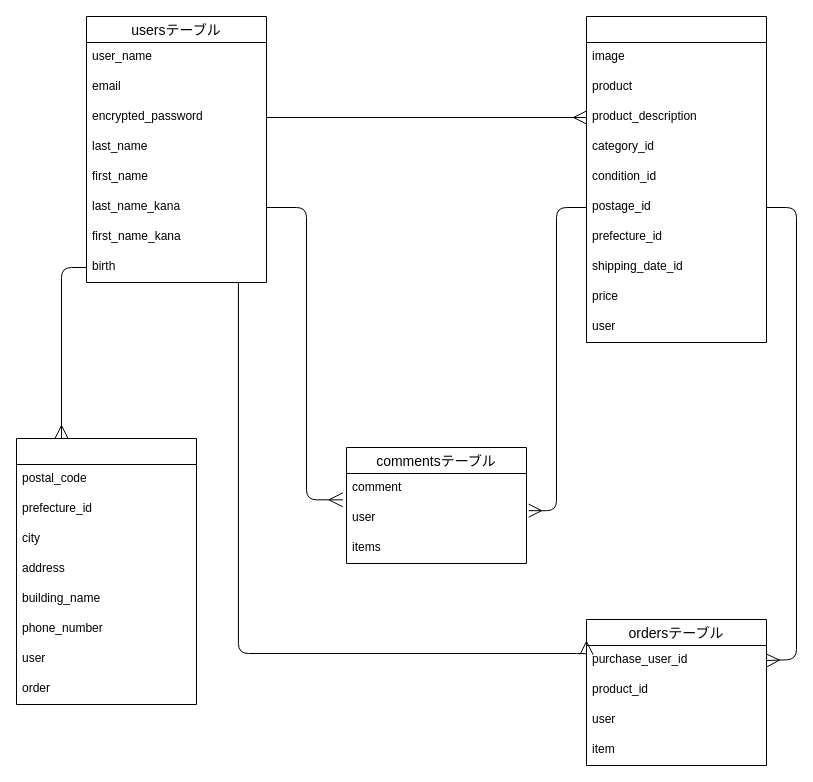
Some shapes in this 813 by 782 pixel diagram are drawn without their labels. Each missing label, with the box of its shape:
itemsテーブル: (586, 16, 766, 342)
purchasesテーブル: (16, 438, 196, 704)
